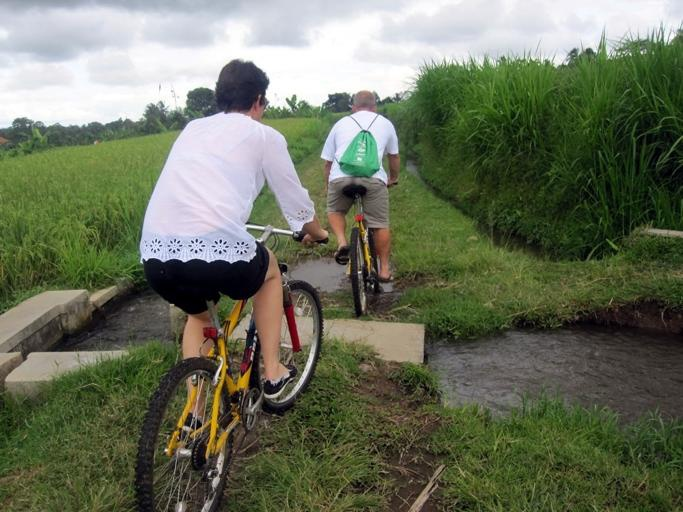non-vehicle: (135, 221, 328, 511), (339, 182, 397, 316)
